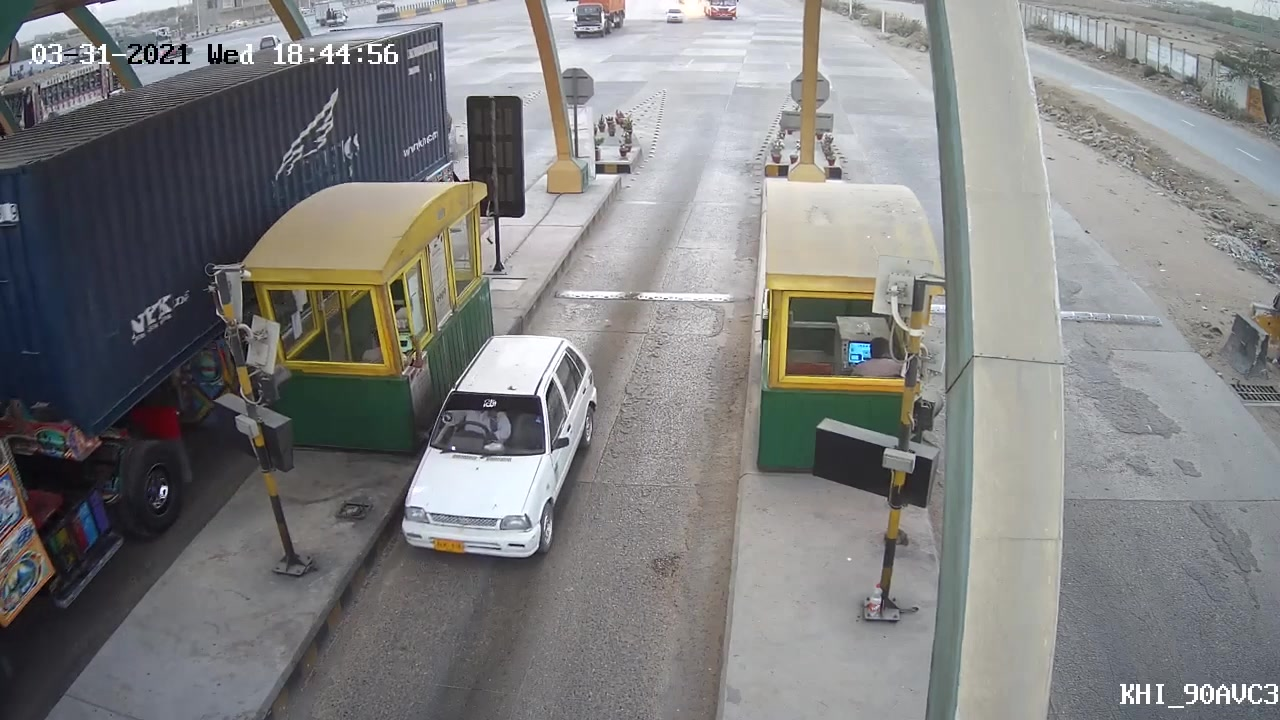F1: (381, 322, 610, 566)
